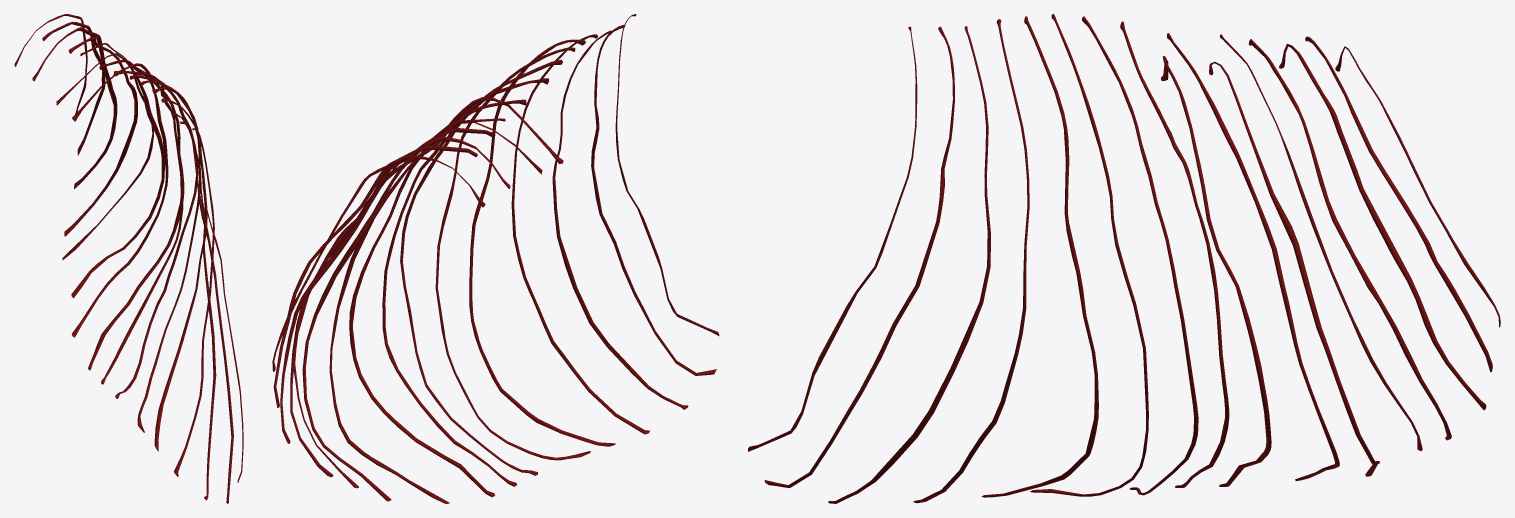
The model's file is L rami intercostales ventrales.fbx.
3 views of the same model, side by side, from view 1: azimuth 30°, elevation 25°; view 2: azimuth 150°, elevation 25°; view 3: azimuth 270°, elevation 25° (orthographic). The views are drawn at different scales.
Parts seen in each view (by area): view 1: L rami intercostales ventrales, L rami intercostales ventrales low; view 2: L rami intercostales ventrales, L rami intercostales ventrales low; view 3: L rami intercostales ventrales, L rami intercostales ventrales low.
Part boxes in pixels (bbox=[...]): L rami intercostales ventrales: bbox=[14, 14, 243, 503]; L rami intercostales ventrales low: bbox=[14, 14, 243, 503]; L rami intercostales ventrales: bbox=[272, 14, 719, 503]; L rami intercostales ventrales low: bbox=[272, 14, 715, 501]; L rami intercostales ventrales: bbox=[748, 14, 1500, 503]; L rami intercostales ventrales low: bbox=[759, 19, 1499, 501].
Size of the model in its own units: 19.64 by 43.59 by 59.47.
